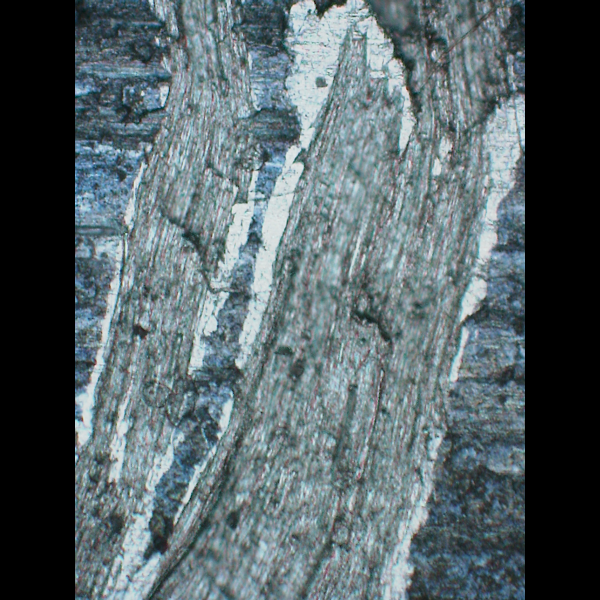d: (77, 0, 525, 599)
